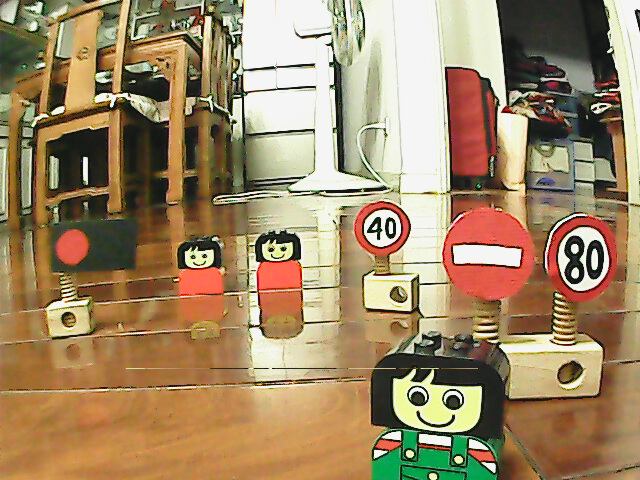Person: (253, 227, 306, 293), (174, 233, 227, 297)
Red Traffic Light: (51, 223, 96, 272)
Speed Limit 40: (352, 199, 414, 258)
Speed Limit 80: (540, 210, 621, 306)
Stop Sign: (438, 204, 539, 305)
